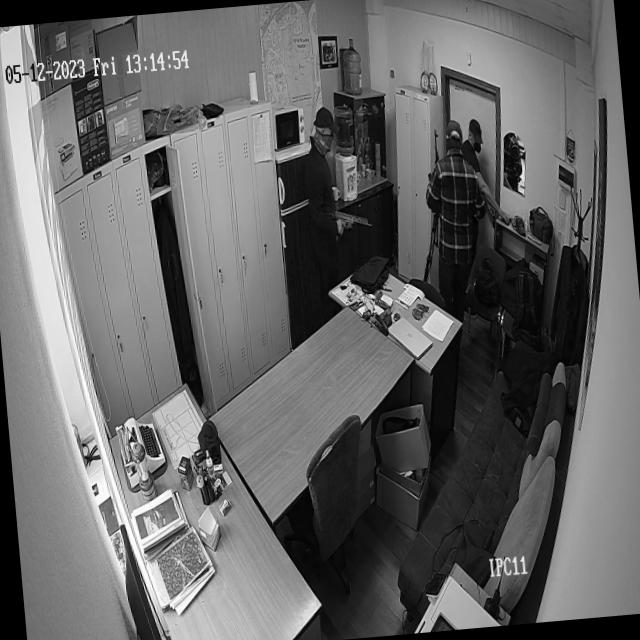gun: (420, 127, 449, 252), (318, 202, 372, 241)
person: (462, 112, 491, 161)
person with a gun: (293, 99, 376, 259), (418, 121, 483, 292)
